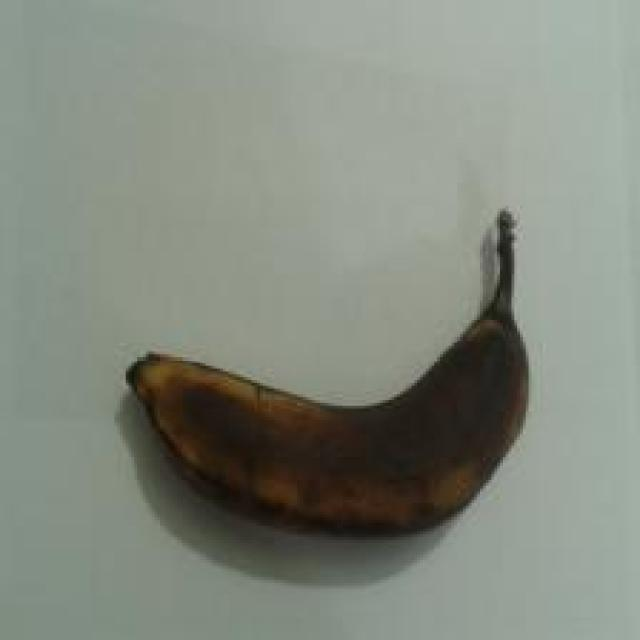Rotten_Banana: (82, 310, 578, 546)
